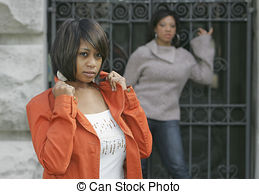face: (61, 16, 115, 87), (149, 6, 186, 48)
